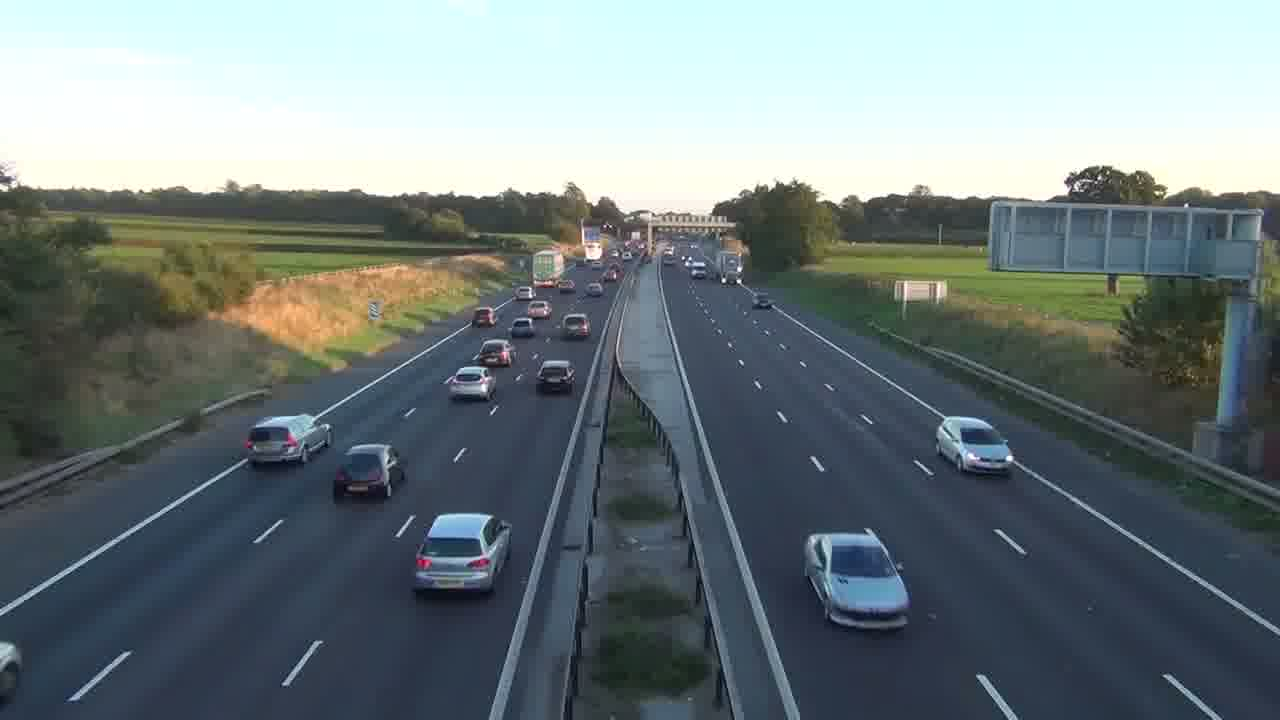car: (802, 528, 912, 629), (412, 512, 513, 596), (241, 413, 334, 466), (934, 415, 1014, 475), (332, 442, 405, 500), (445, 365, 496, 401), (536, 358, 577, 394), (0, 641, 23, 705), (478, 339, 514, 368), (560, 311, 592, 340), (510, 318, 535, 340)
